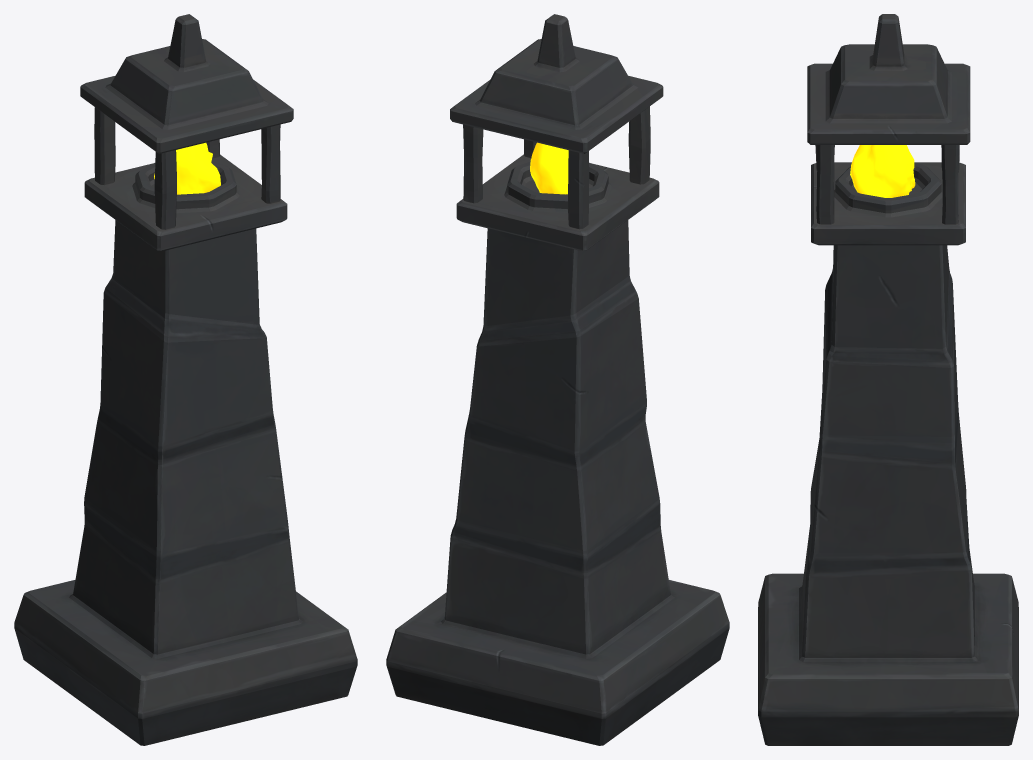
The picture shows the model from 3 angles, left to right: view 1: azimuth 30°, elevation 25°; view 2: azimuth 150°, elevation 25°; view 3: azimuth 270°, elevation 25°; orthographic projection. The views are drawn at different scales.
Visible parts, largest first — view 1: Cube.001, Sphere; view 2: Cube.001, Sphere; view 3: Cube.001, Sphere.
Boxes of the visible parts, x1,y1,x2,y2 form: Cube.001: [14, 14, 357, 745]; Sphere: [154, 142, 220, 194]; Cube.001: [386, 14, 729, 745]; Sphere: [530, 142, 568, 194]; Cube.001: [758, 14, 1018, 745]; Sphere: [850, 145, 915, 197].
Bounding box in the file's own units: 85.17 × 244 × 85.17.
Materials: 2 (1 with a texture image).
